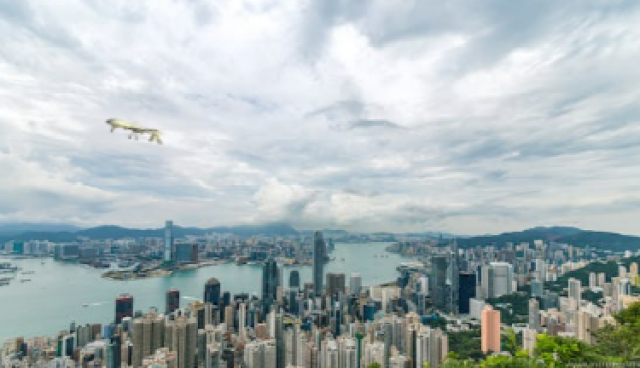military drone: (103, 117, 166, 145)
